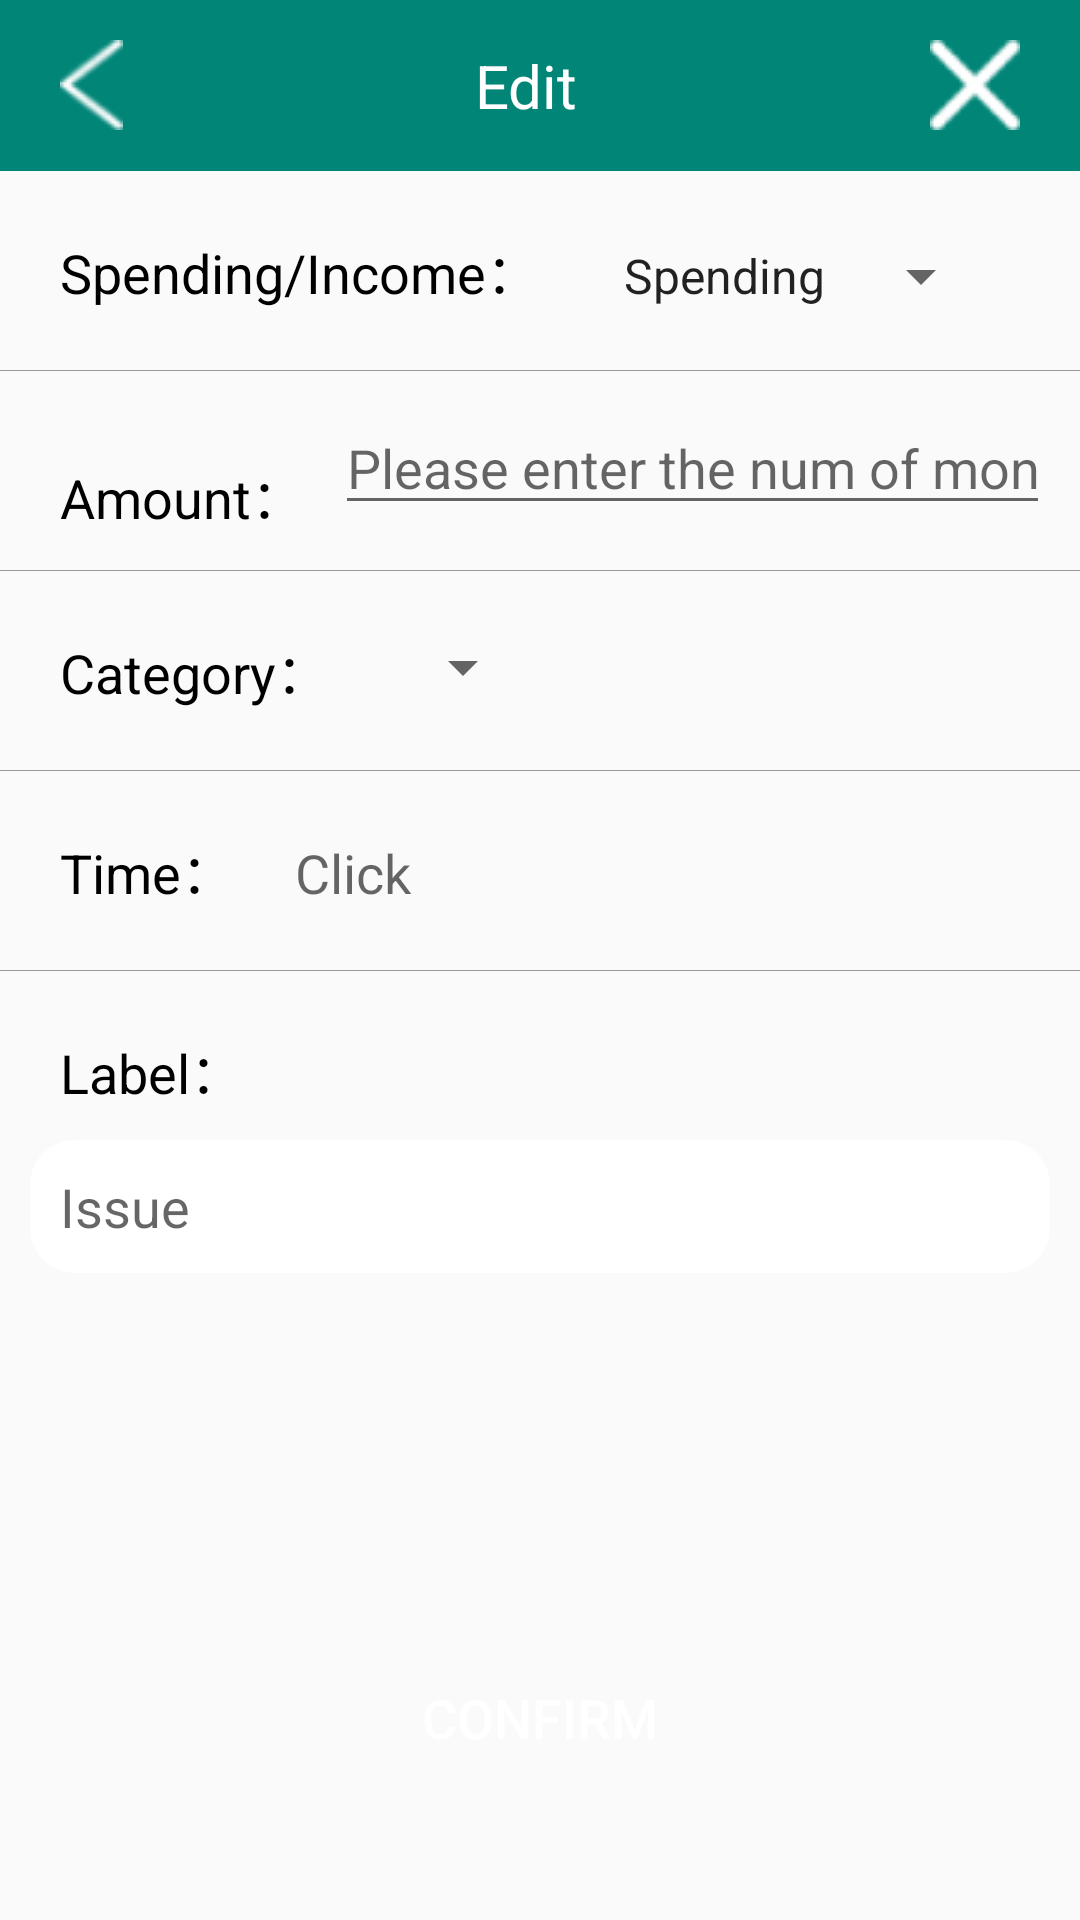

Point at icon controls on the screen. Image size 1080w x 1920h, points as (x=x, y=y).
back: (x=91, y=85)
